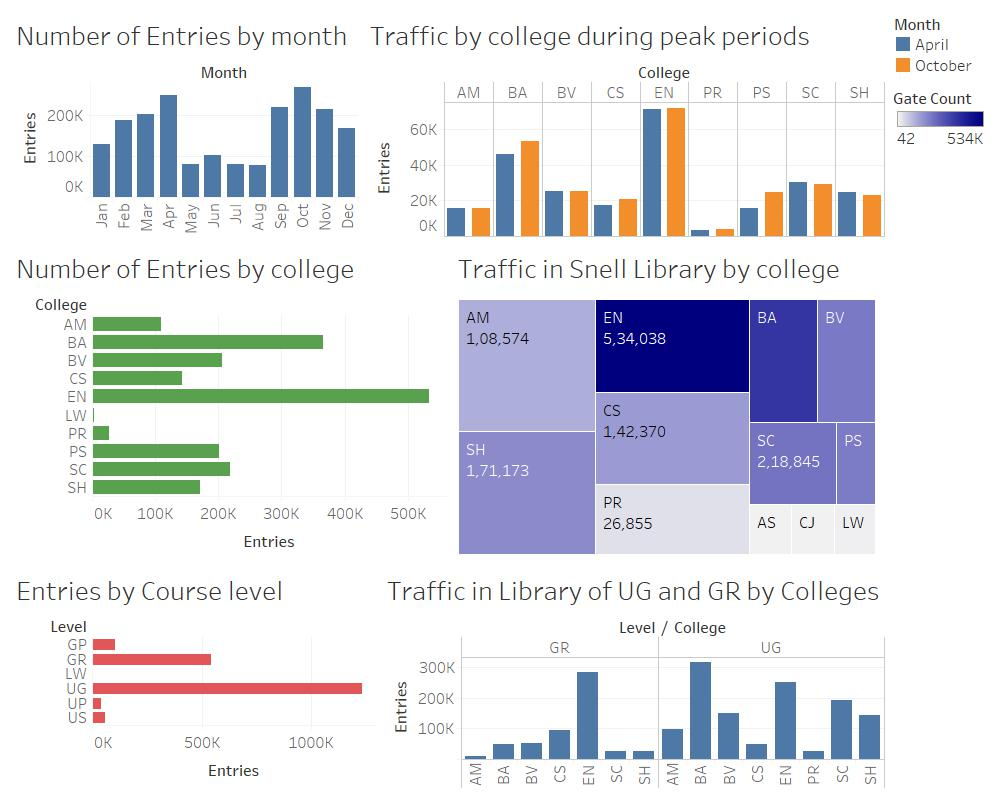

Layout of this report page (visuals, bound fields, positions):
{"tool":"tableau","page":{"name":"Dashboard 3","canvas":[1000,800],"ordinal":2},"visuals":[{"type":"worksheet","title":"Number of Entries by college","mark":"Bar","rows":["Number of Records"],"cols":["COLL"],"box":[8,8,412,258]},{"type":"worksheet","title":"Number of Entries by month","mark":"Automatic","rows":["Number of Records"],"cols":["month"],"box":[420,8,412,258]},{"type":"legend","title":"Traffic by college during peak periods","param":"[federated.09nlxz81p8bic21clvbzr0cd9j7c].[mn:TRAN_DATE:ok]","box":[832,8,160,72]},{"type":"legend","title":"Traffic Snell Library by college","param":"[federated.12sut5t1jwmbw31bfuc1t1hshs51].[sum:gate count:qk]","box":[832,80,160,73]},{"type":"worksheet","title":"Traffic by college during peak periods","mark":"Bar","rows":["Number of Records"],"cols":["COLL","TRAN_DATE"],"box":[8,266,510,288]},{"type":"worksheet","title":"Traffic Snell Library by college","mark":"Automatic","box":[518,266,314,288]},{"type":"worksheet","title":"Number of Entries by Course level","mark":"Automatic","rows":["Number of Records"],"cols":["LEVEL"],"box":[8,554,412,238]},{"type":"worksheet","title":"Traffic in Snell Library of UG and GR by Colleges","mark":"Automatic","rows":["Number of Records"],"cols":["LEVEL","COLL"],"box":[420,554,412,238]}]}

Visuals, with their boxes in screenshot pixels (x1, y1, x2, y2), scaled from the page's 1000x800 canvas onto the 1000x800 screenshot:
"Number of Entries by college" worksheet (Bar marks): bbox=[8, 8, 420, 266]
"Number of Entries by month" worksheet: bbox=[420, 8, 832, 266]
"Traffic by college during peak periods" legend: bbox=[832, 8, 992, 80]
"Traffic Snell Library by college" legend: bbox=[832, 80, 992, 153]
"Traffic by college during peak periods" worksheet (Bar marks): bbox=[8, 266, 518, 554]
"Traffic Snell Library by college" worksheet: bbox=[518, 266, 832, 554]
"Number of Entries by Course level" worksheet: bbox=[8, 554, 420, 792]
"Traffic in Snell Library of UG and GR by Colleges" worksheet: bbox=[420, 554, 832, 792]
